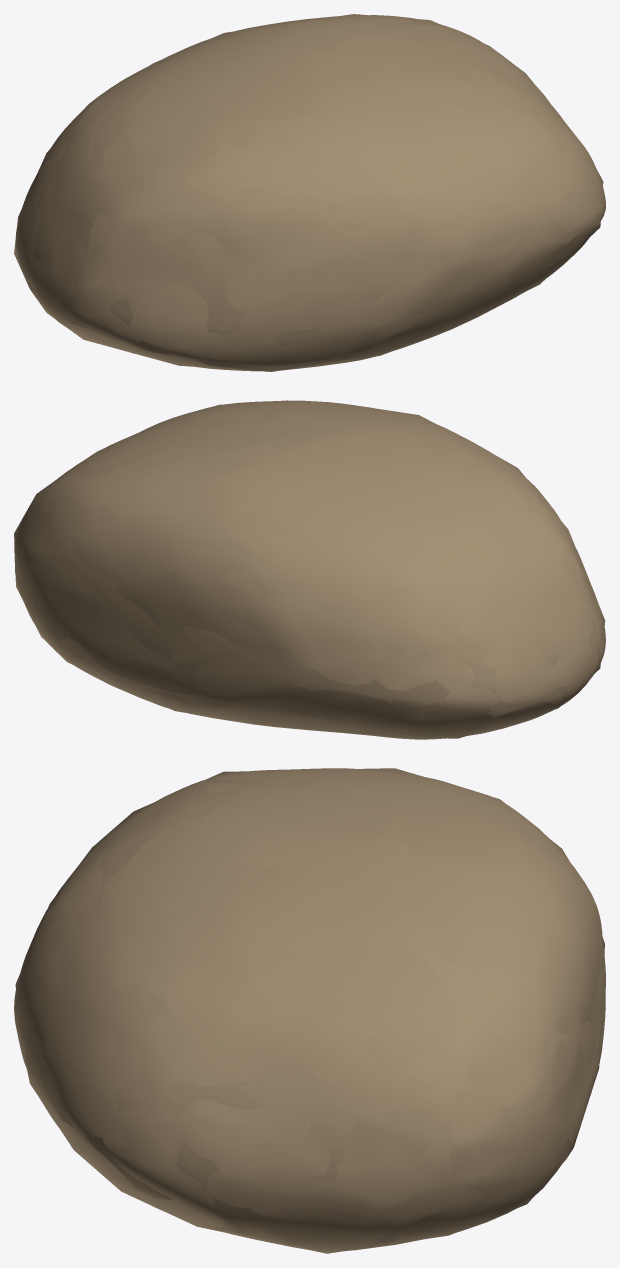
The model's file is boulder_3.glb.
The picture shows the model from 3 angles, top to bottom: view 1: azimuth 30°, elevation 25°; view 2: azimuth 150°, elevation 25°; view 3: azimuth 270°, elevation 25°; orthographic projection. The views are drawn at different scales.
Parts seen in each view (by area): view 1: Boulder_3, Boulder_3_Far; view 2: Boulder_3, Boulder_3_Far; view 3: Boulder_3, Boulder_3_Far.
Part boxes in pixels (x1,y1,x2,y2): Boulder_3: (15, 15, 605, 371); Boulder_3_Far: (14, 14, 603, 371); Boulder_3: (14, 400, 605, 739); Boulder_3_Far: (14, 400, 605, 738); Boulder_3: (14, 768, 605, 1251); Boulder_3_Far: (15, 768, 604, 1253).
Bounding box in the file's own units: 8 × 3.63 × 6.
